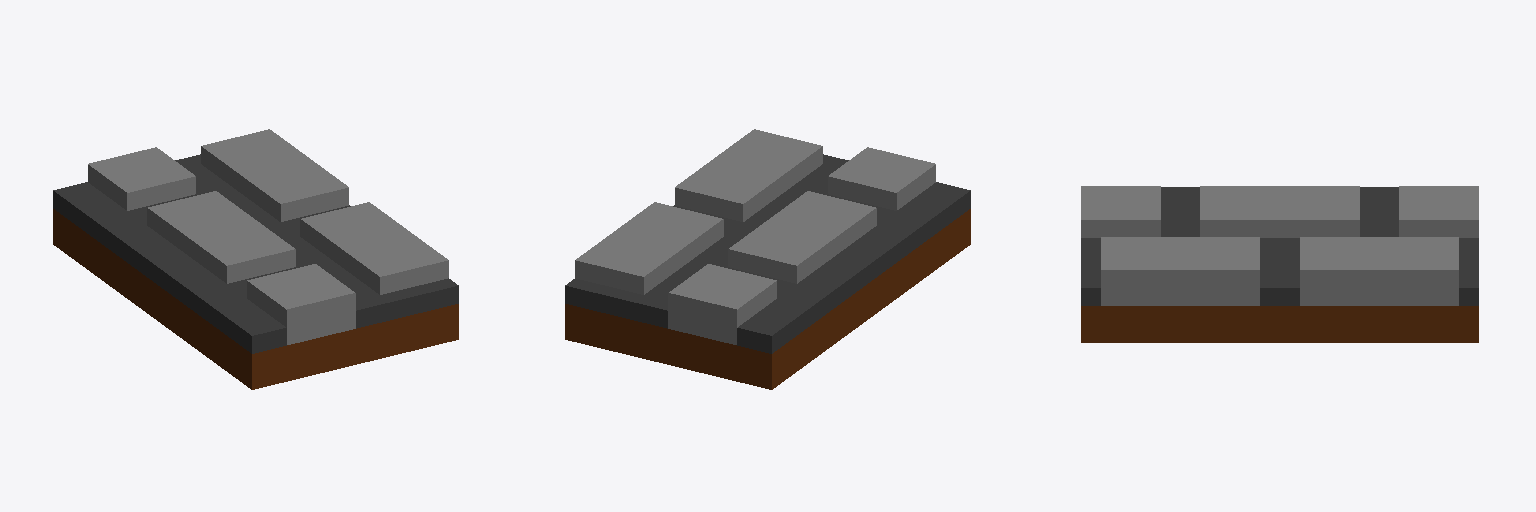
The picture shows the model from 3 angles: view 1: azimuth 30°, elevation 25°; view 2: azimuth 150°, elevation 25°; view 3: azimuth 270°, elevation 25°; orthographic projection.
Visible parts, largest first — view 1: floor-1; view 2: floor-1; view 3: floor-1.
Boxes of the visible parts, <box> form: floor-1: <box>53,129,458,389</box>; floor-1: <box>565,129,970,389</box>; floor-1: <box>1081,186,1478,342</box>.
Bounding box in the file's own units: 12 × 4 × 20.
1 materials, 1 textured.